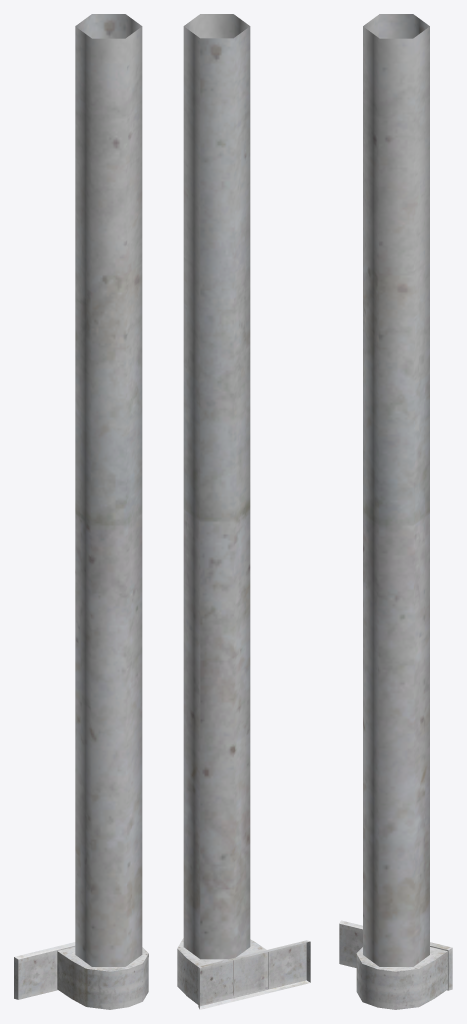
The model's file is SM_Wires_Pipes_01ss.glb.
The picture shows the model from 3 angles, left to right: view 1: azimuth 30°, elevation 25°; view 2: azimuth 210°, elevation 25°; view 3: azimuth 330°, elevation 25°; orthographic projection.
Parts seen in each view (by area): view 1: SM_Wires_Pipes_01ss; view 2: SM_Wires_Pipes_01ss; view 3: SM_Wires_Pipes_01ss.
Part boxes in pixels (x1,y1,x2,y2): SM_Wires_Pipes_01ss: [14, 14, 148, 1009]; SM_Wires_Pipes_01ss: [177, 14, 310, 1009]; SM_Wires_Pipes_01ss: [339, 14, 452, 1009].
Bounding box in the file's own units: 0.0605 × 0.5017 × 0.0367.
Materials: 1 (1 with a texture image).
